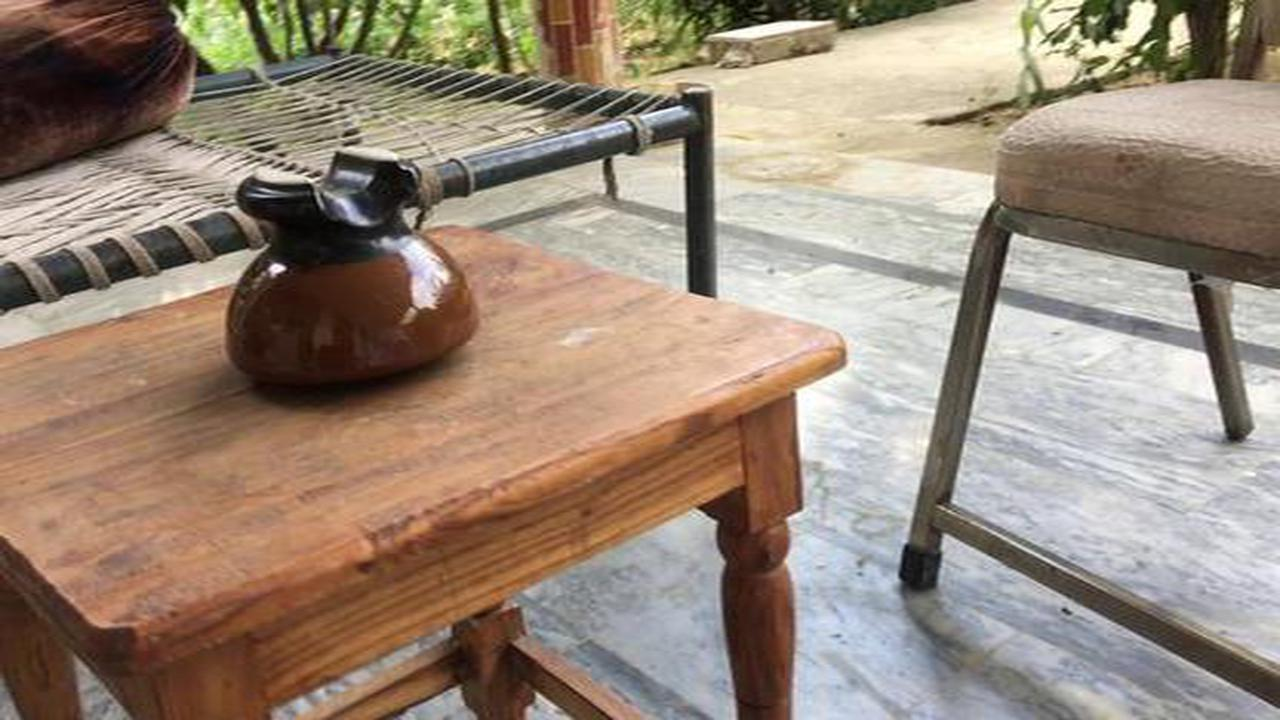insulator_pin: (204, 141, 490, 400)
